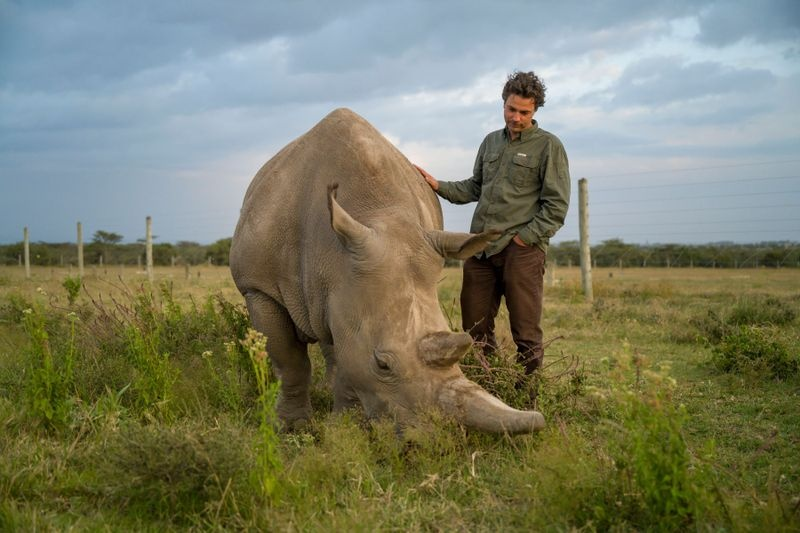rhino: (227, 105, 544, 466)
